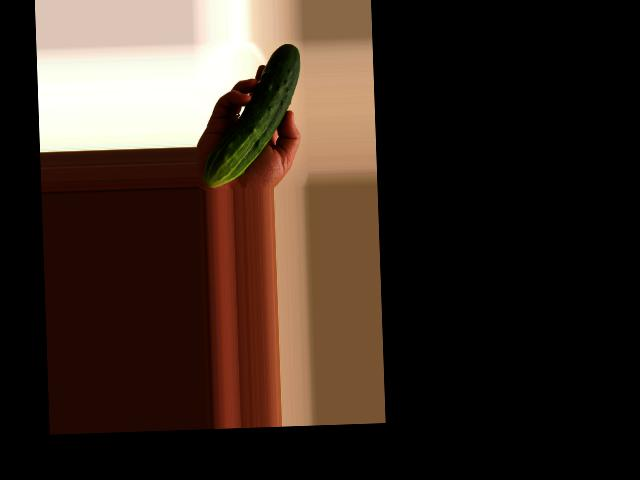cucumber: (198, 43, 303, 187)
